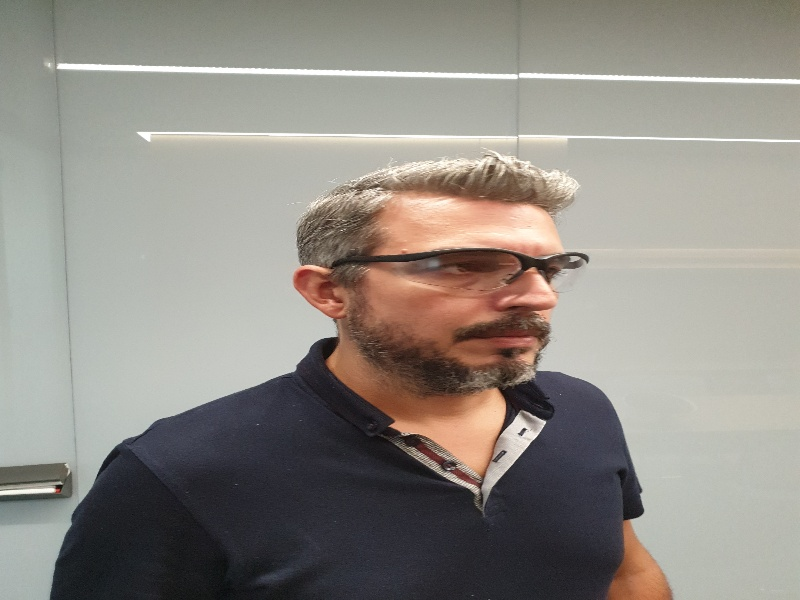Gozluk: (330, 251, 593, 295)
